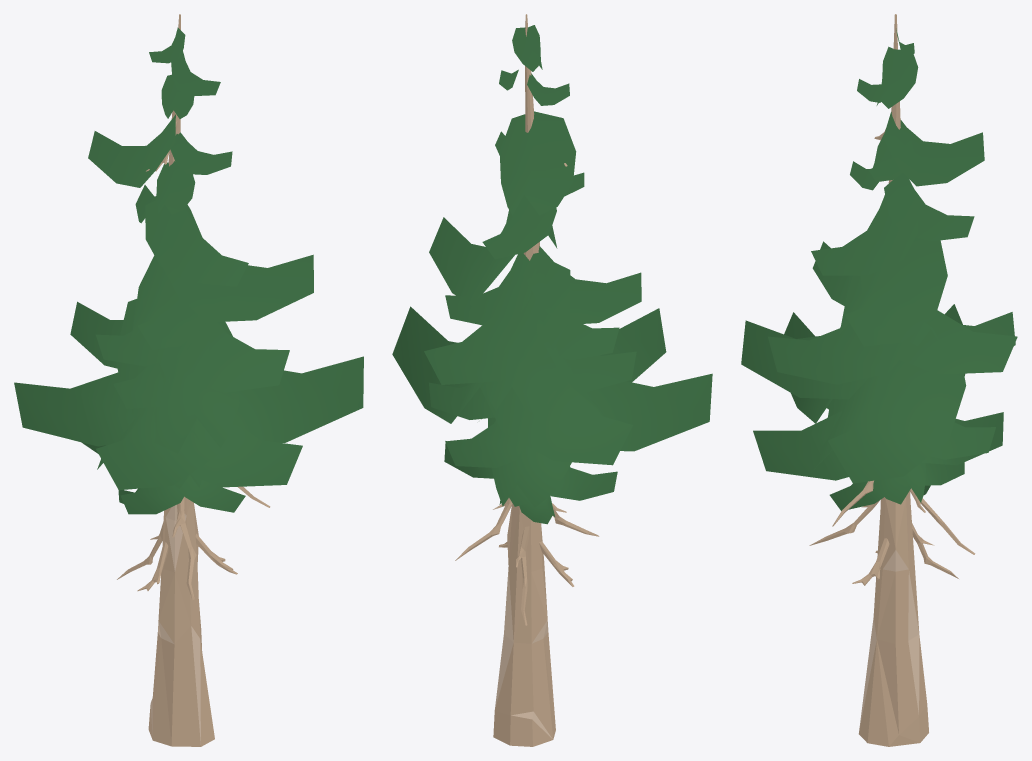
Rendered from pine-2.glb.
3 renders of one model, left to right at view 1: azimuth 30°, elevation 25°; view 2: azimuth 150°, elevation 25°; view 3: azimuth 270°, elevation 25°, orthographic.
Parts seen in each view (by area): view 1: Node; view 2: Node; view 3: Node.
Boxes of the visible parts, left/top/right/bottom form: Node: left=14, top=14, right=363, bottom=746; Node: left=392, top=14, right=712, bottom=746; Node: left=741, top=14, right=1017, bottom=746.
Bounding box in the file's own units: 5.91 × 13.63 × 4.76.
